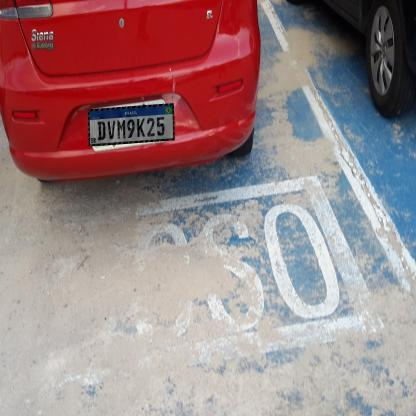PlacaM: (88, 104, 175, 146)
